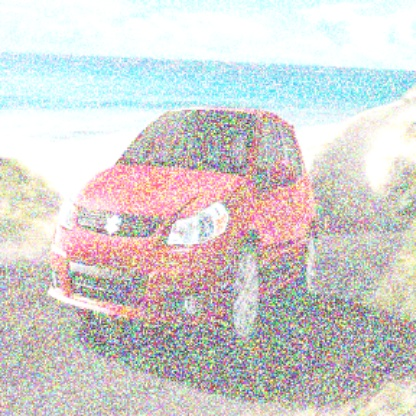Vehicle: (44, 105, 320, 353)
